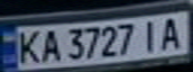2: (100, 22, 121, 58)
3: (63, 25, 84, 61)
7: (115, 20, 139, 56), (81, 25, 103, 60)
A: (154, 15, 190, 51), (36, 27, 63, 63)
I: (136, 17, 163, 52)
K: (12, 27, 45, 65)
